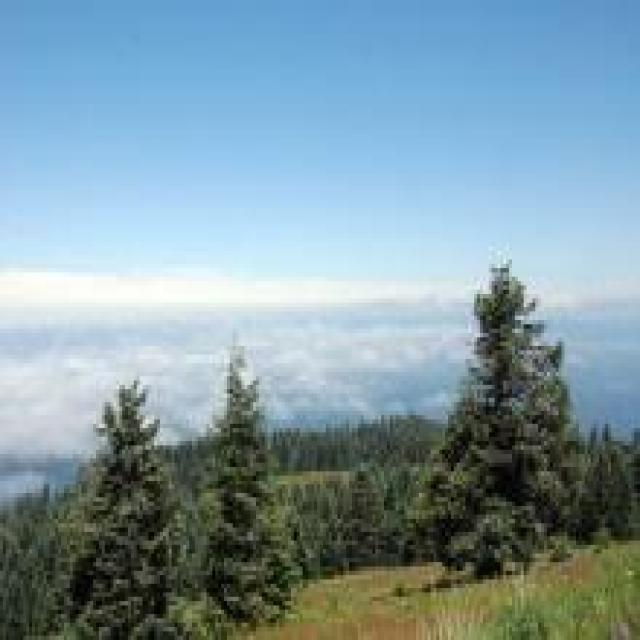Abies: (406, 263, 599, 580), (193, 344, 291, 634), (74, 380, 177, 640)
